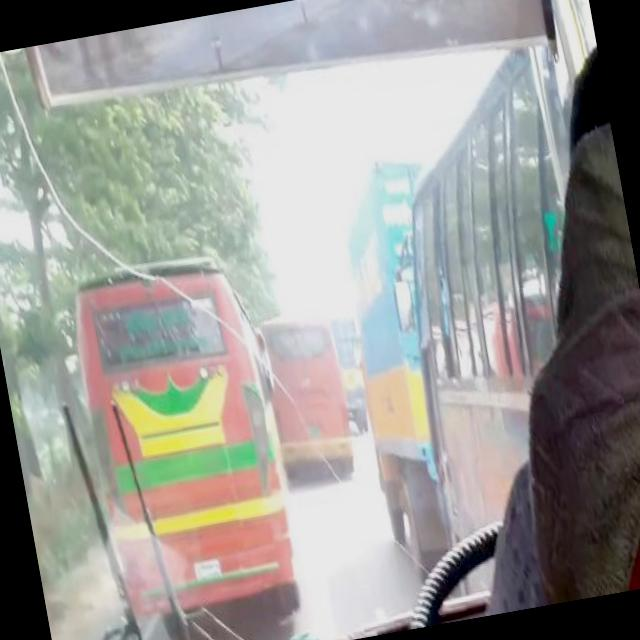bus: (362, 49, 631, 586), (64, 248, 299, 632), (258, 304, 356, 476)
truck: (322, 159, 451, 565), (330, 314, 371, 428)
